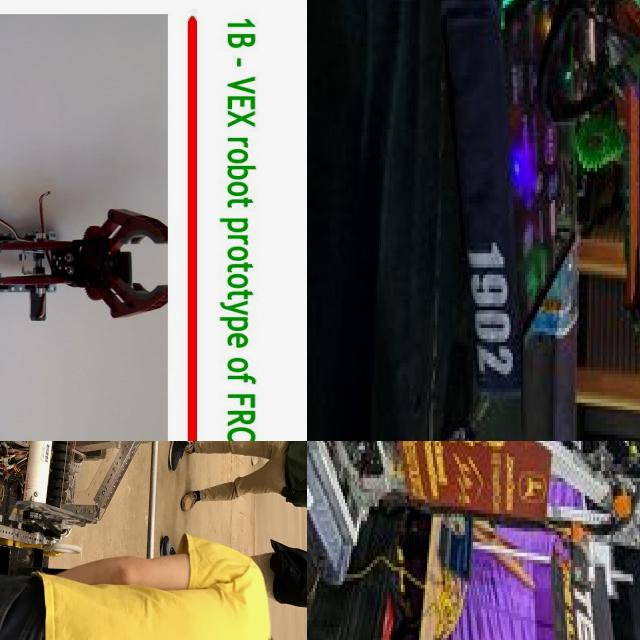FRC-Robots: (434, 0, 640, 434), (307, 441, 640, 611), (0, 441, 307, 570), (0, 155, 180, 373)
